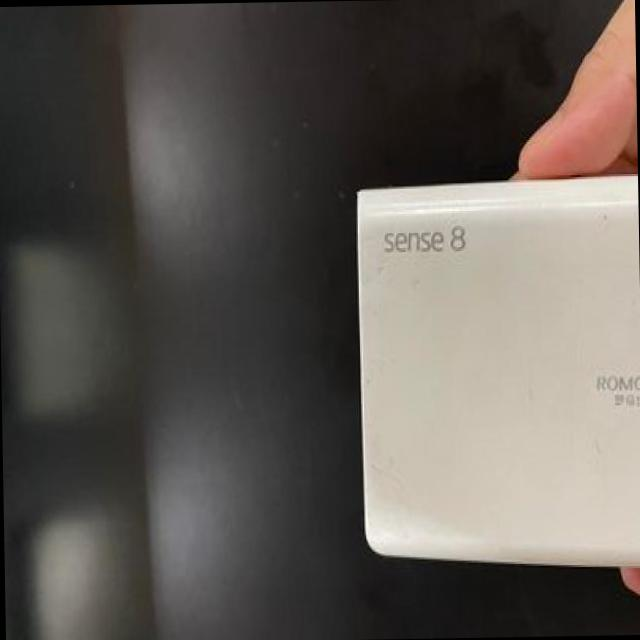power_bank: (348, 152, 640, 581)
